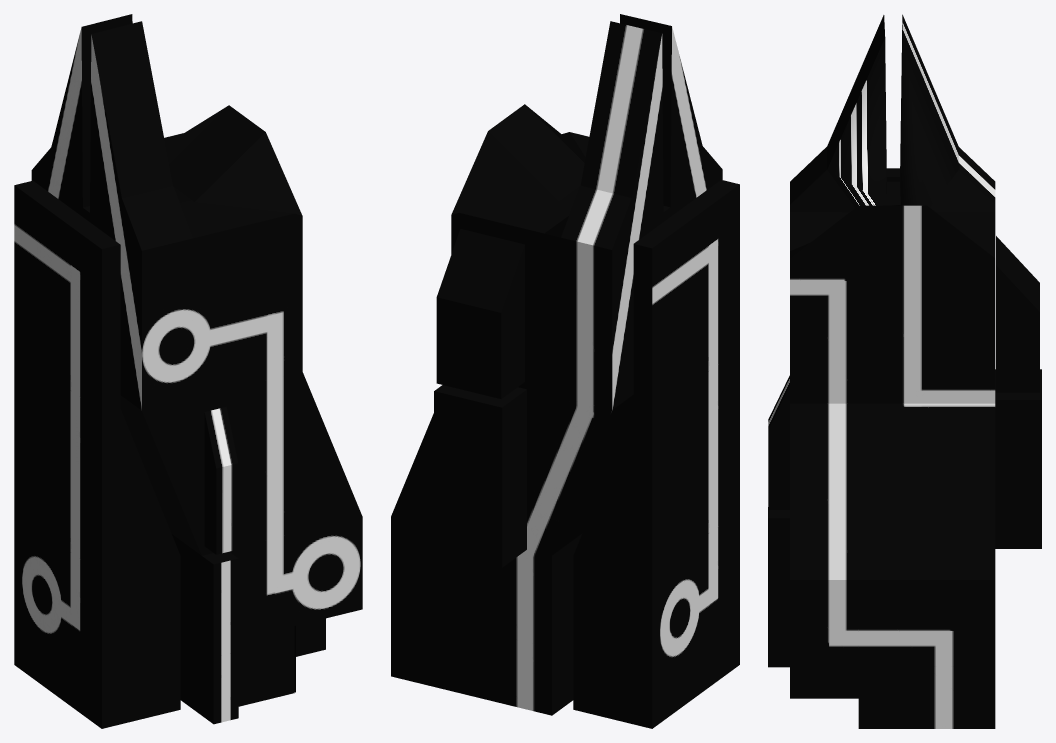
File: Obstakel7.fbx
3 renders of one model, left to right at view 1: azimuth 30°, elevation 25°; view 2: azimuth 150°, elevation 25°; view 3: azimuth 270°, elevation 25°, orthographic. The views are drawn at different scales.
Parts seen in each view (by area): view 1: Cube.4; view 2: Cube.4; view 3: Cube.4.
Boxes of the visible parts, x1,y1,x2,y2 form: Cube.4: [14, 14, 362, 728]; Cube.4: [391, 14, 739, 728]; Cube.4: [768, 14, 1041, 728].
Size of the model in its own units: 329 by 832 by 336.
1 material, 1 textured.
